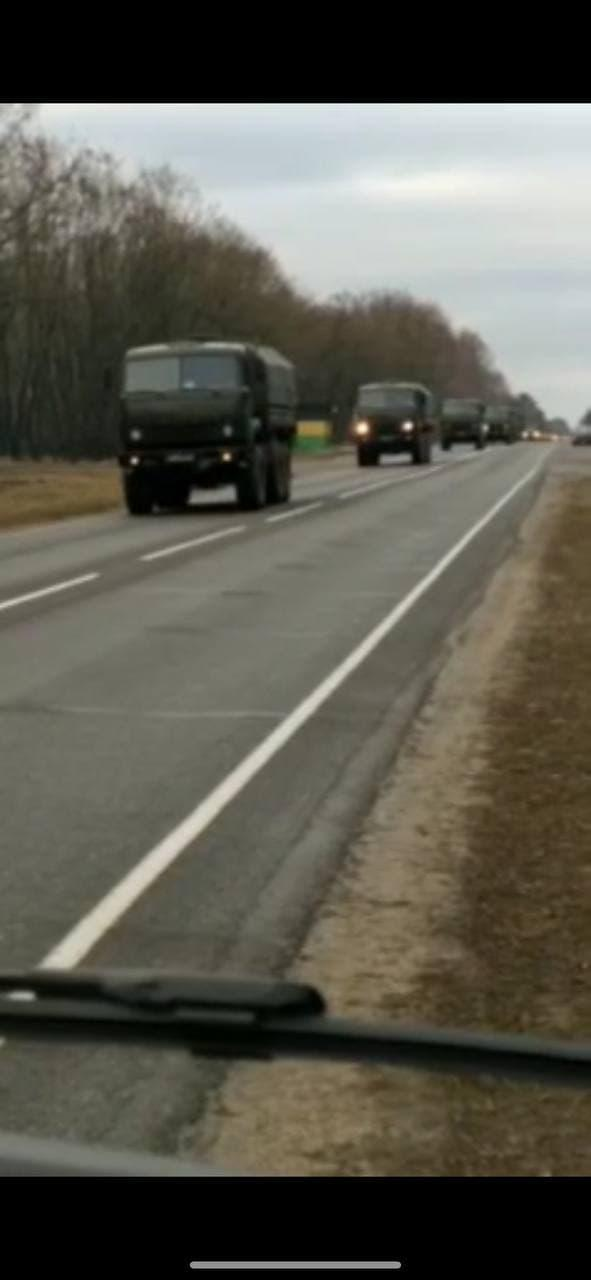truck: (112, 331, 302, 530), (348, 362, 433, 482), (440, 390, 492, 464)
